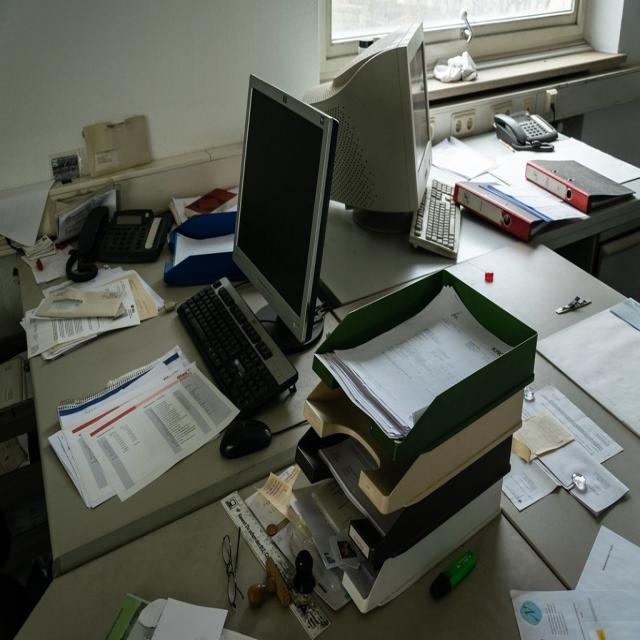E-waste: (38, 17, 537, 618)
